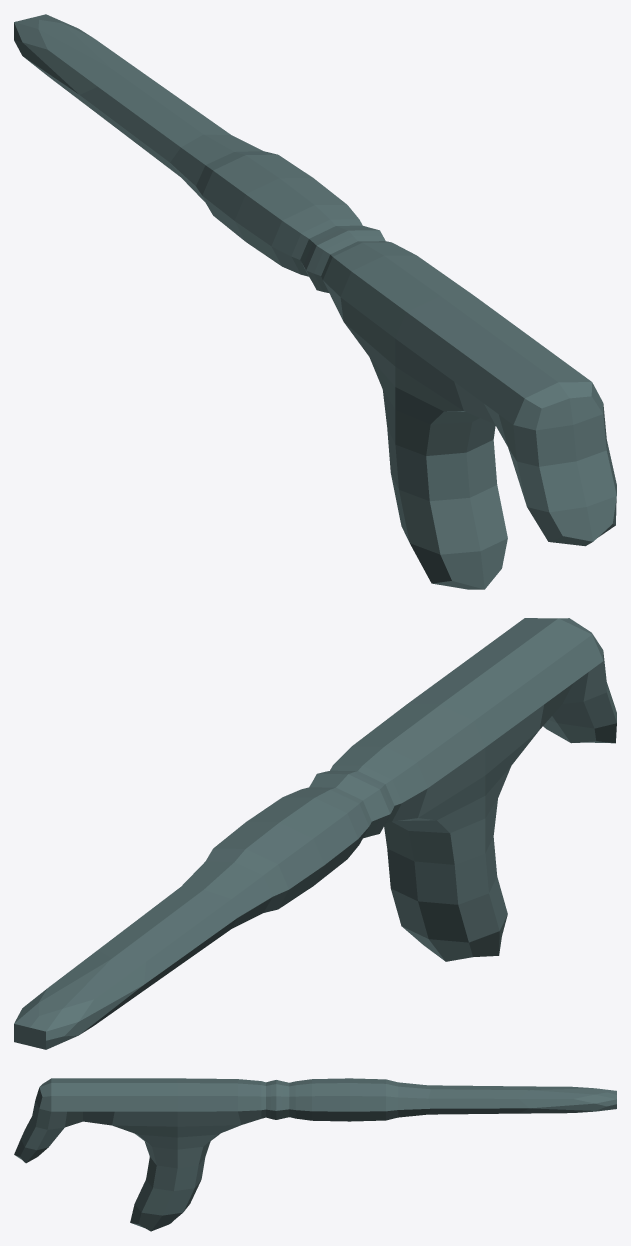
The model's file is gun.fbx.
3 views of the same model, one above another, from view 1: azimuth 30°, elevation 25°; view 2: azimuth 150°, elevation 25°; view 3: azimuth 270°, elevation 25° (orthographic). The views are drawn at different scales.
Visible parts, largest first — view 1: gun_model; view 2: gun_model; view 3: gun_model.
Boxes of the visible parts, <box> form: gun_model: <box>14,14,616,589</box>; gun_model: <box>14,618,616,1049</box>; gun_model: <box>14,1078,616,1231</box>.
Size of the model in its own units: 200 by 579 by 2167.
